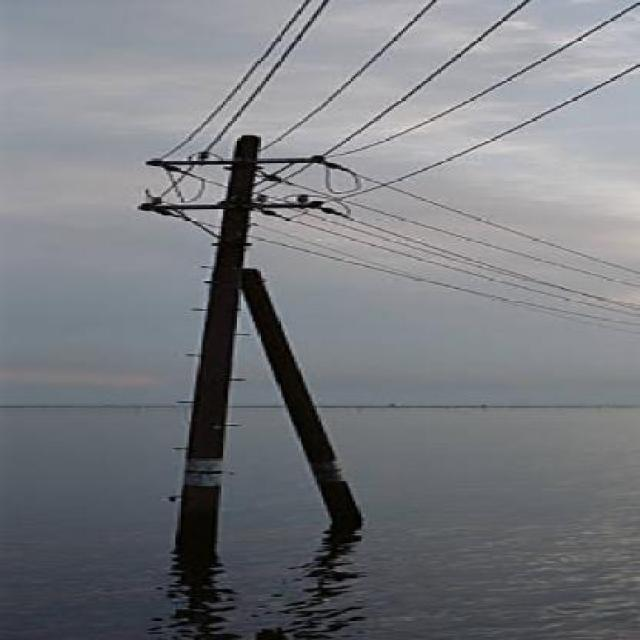pole: (112, 134, 425, 528)
